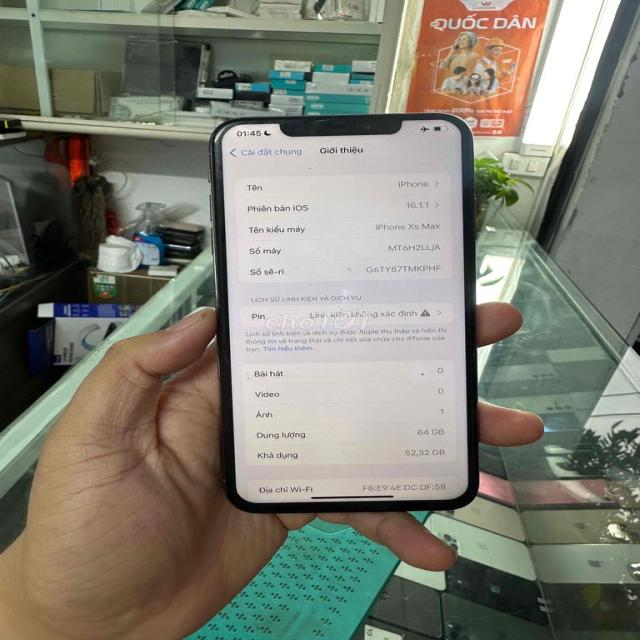gen_x_xs: (208, 110, 481, 520)
